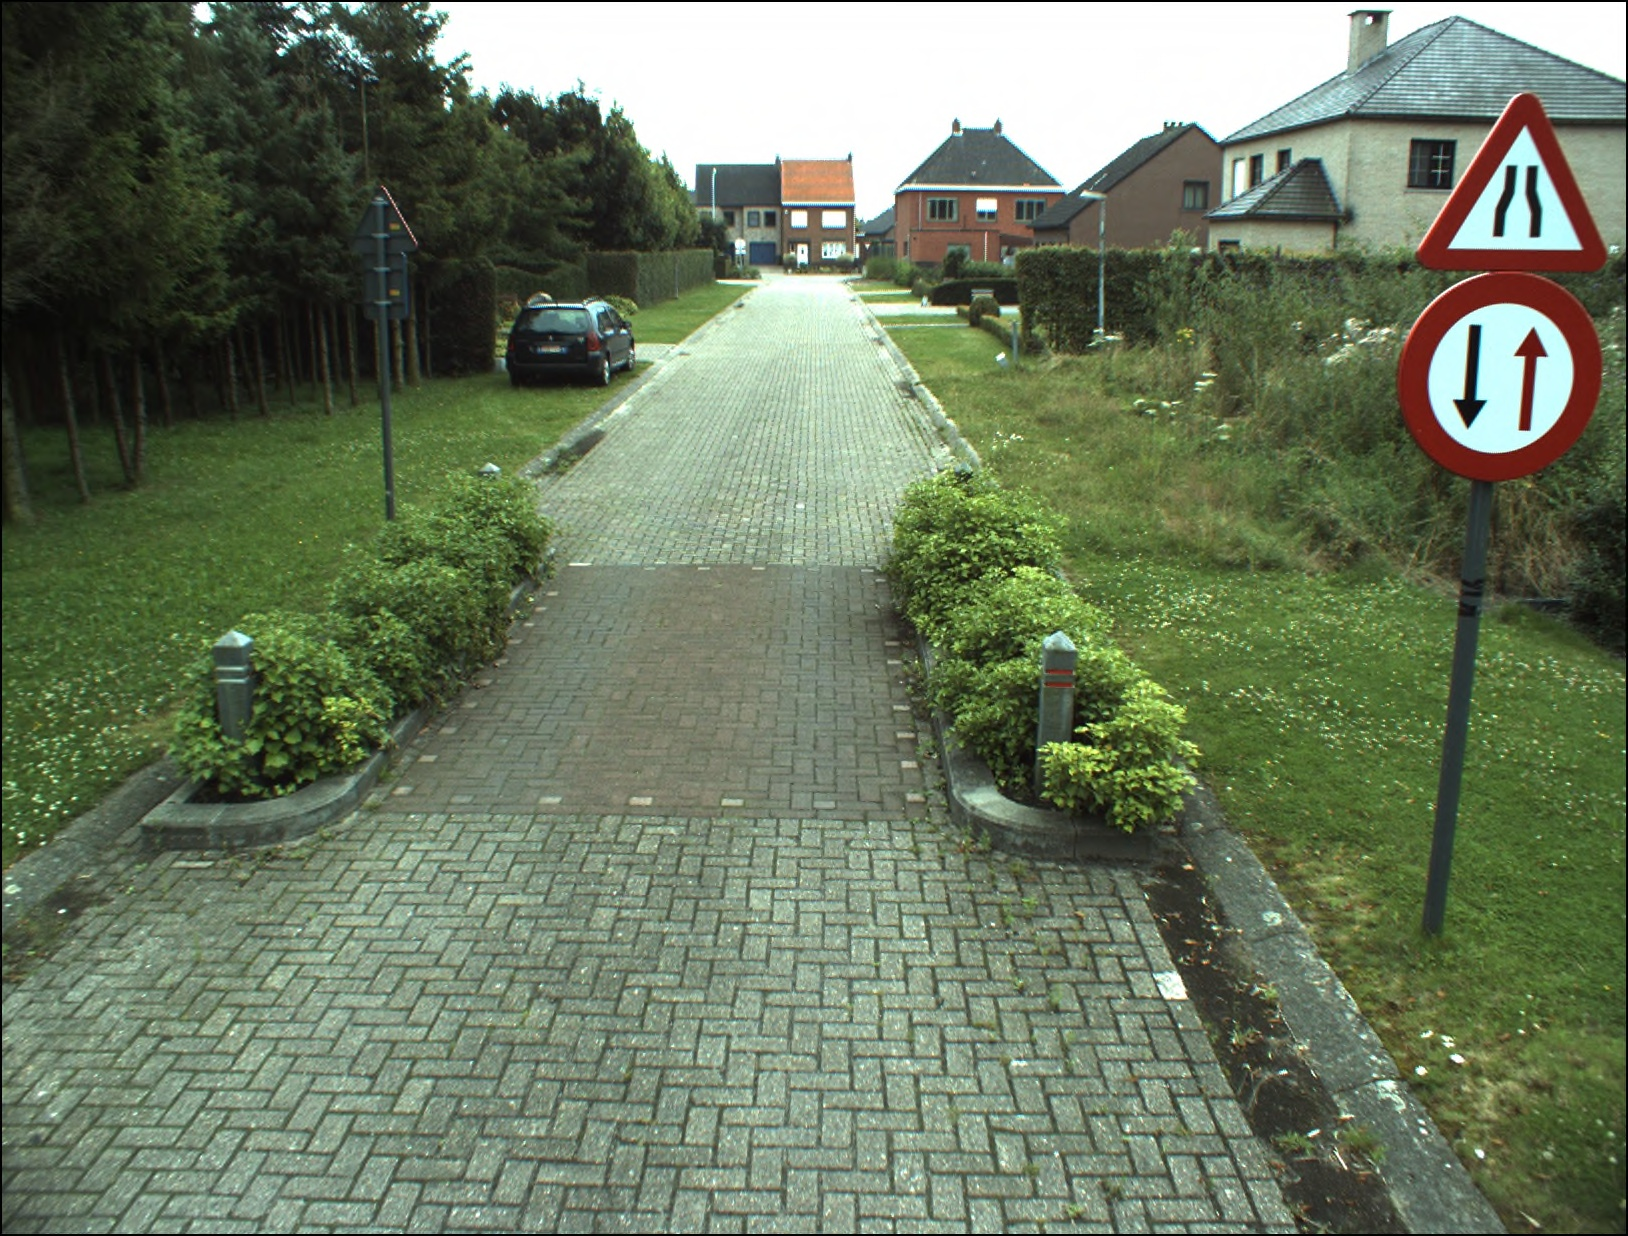roadnarrow2: (1412, 273, 1586, 469)
